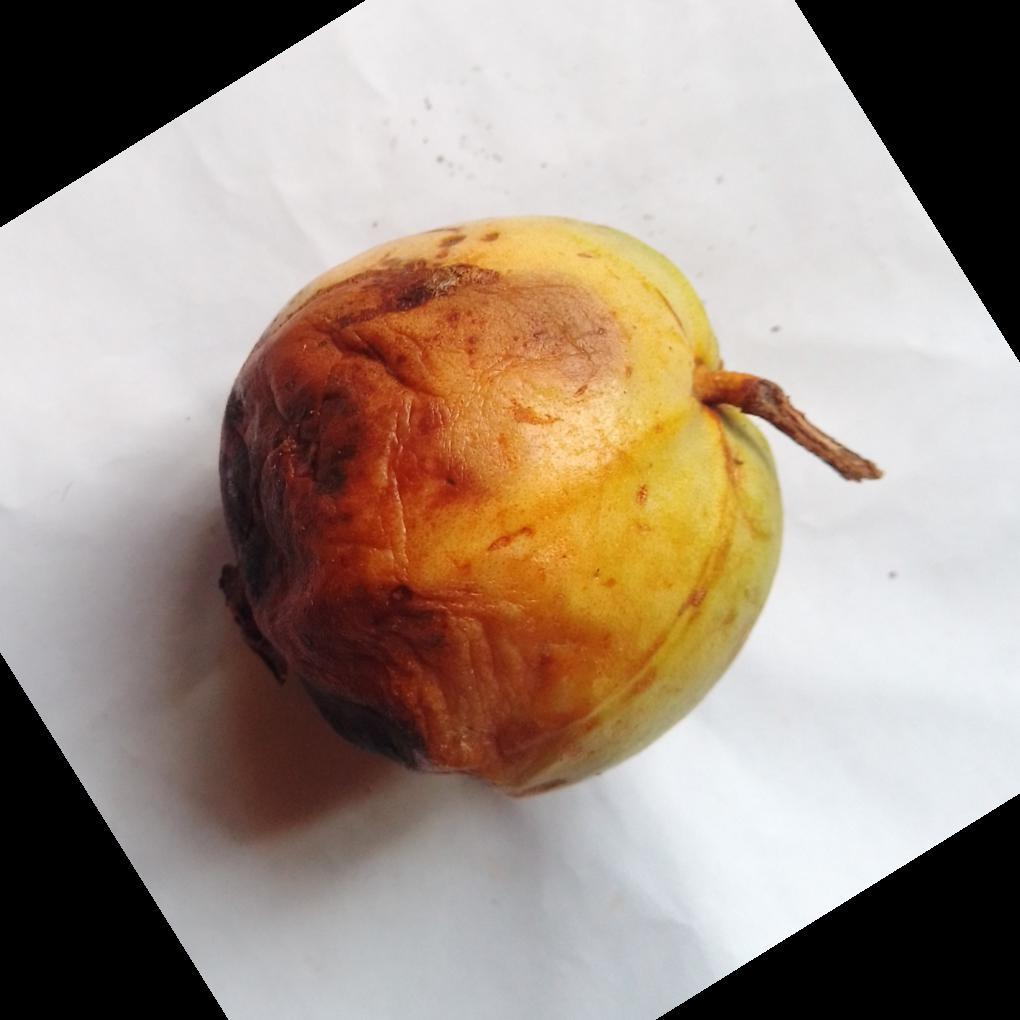FreshOrange: (215, 216, 871, 802)
